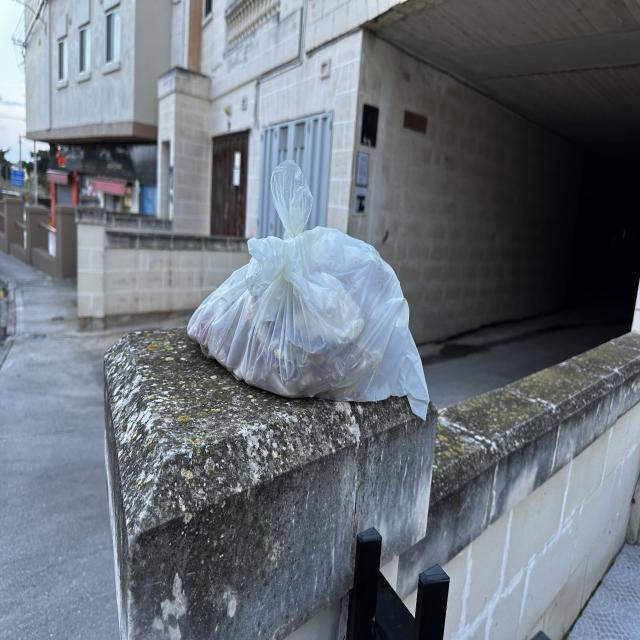Organic Waste -White Bags-: (188, 159, 429, 420)
